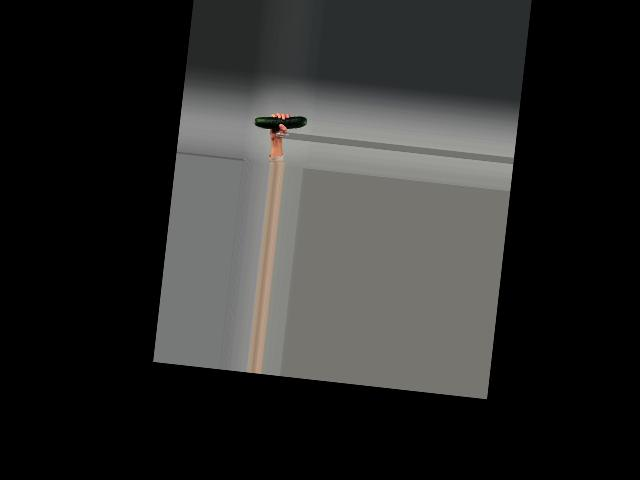cucumber: (255, 111, 307, 133)
